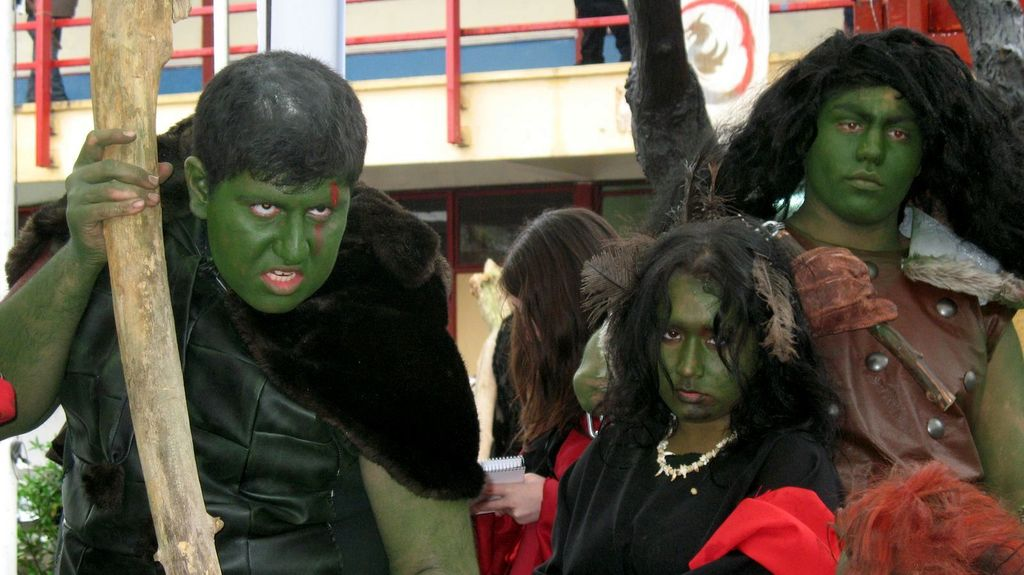Person: (0, 49, 480, 575), (677, 25, 1024, 574)
